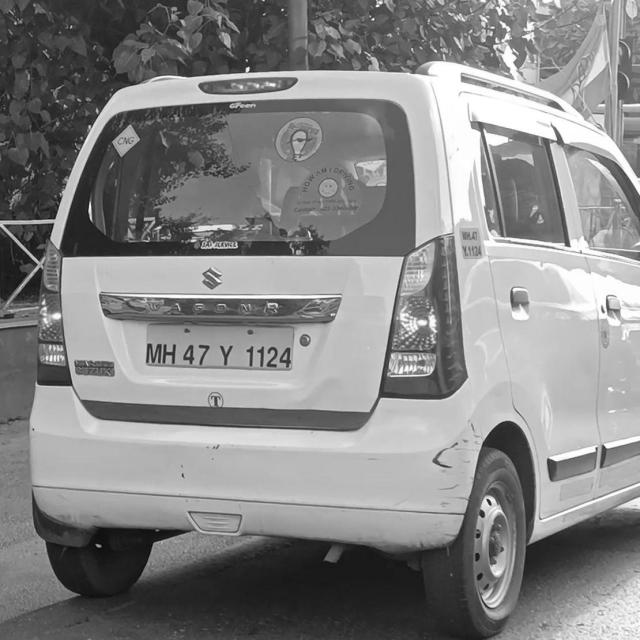car: (23, 59, 640, 640)
license-plate: (138, 316, 294, 381)
